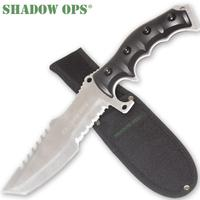knife: (1, 7, 190, 197)
